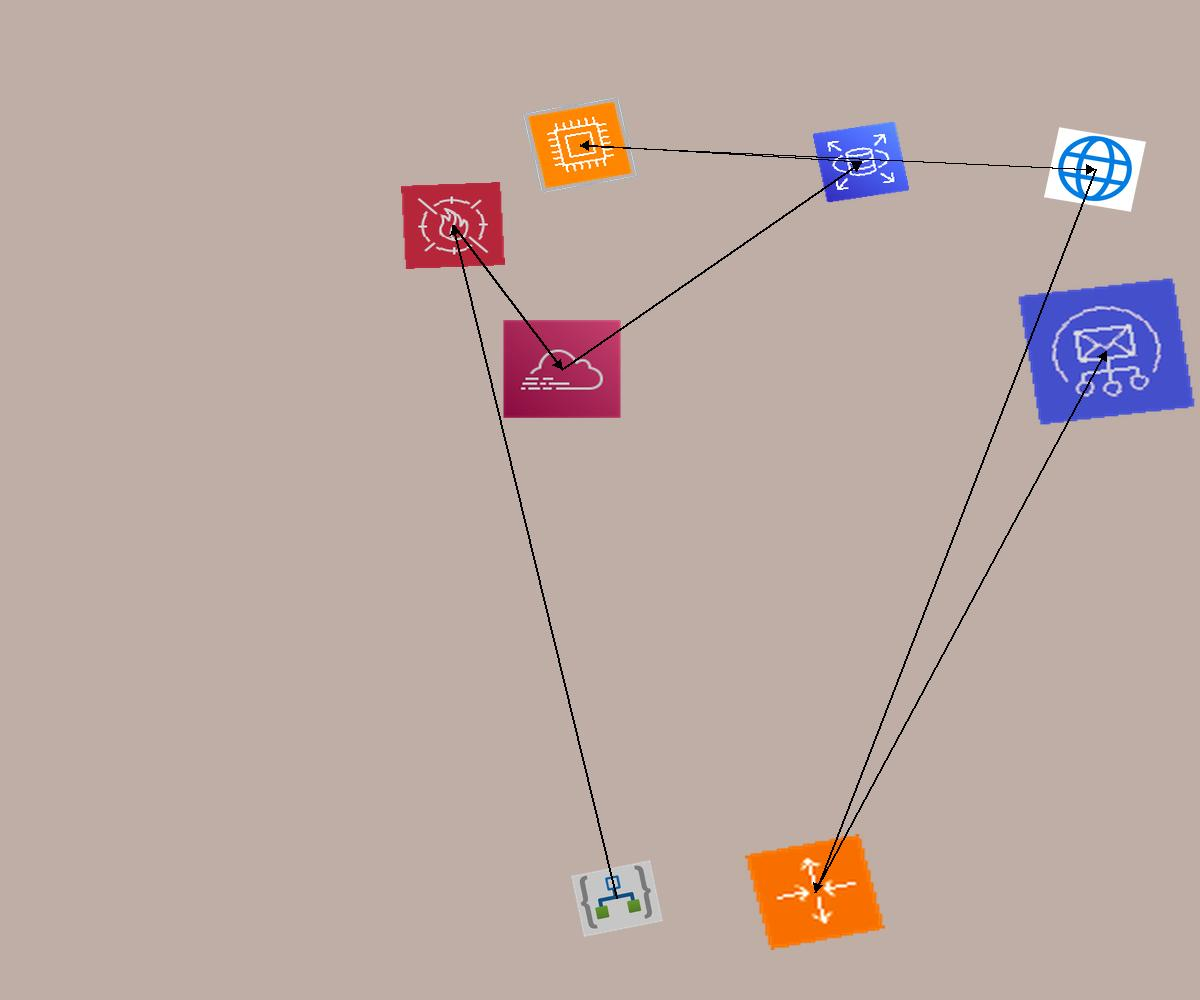AWS-Category_Compute: (521, 96, 639, 194)
AWS-CloudTrail: (502, 319, 622, 419)
AWS-RDS: (812, 121, 910, 203)
AWS-Scaling-group: (745, 834, 885, 950)
AWS-Simple-Email-Service: (1017, 277, 1196, 426)
AWS-WAF: (401, 182, 505, 269)
Azure_http: (1044, 127, 1146, 212)
Azure_integration-204-Logic-Apps: (571, 860, 663, 937)
